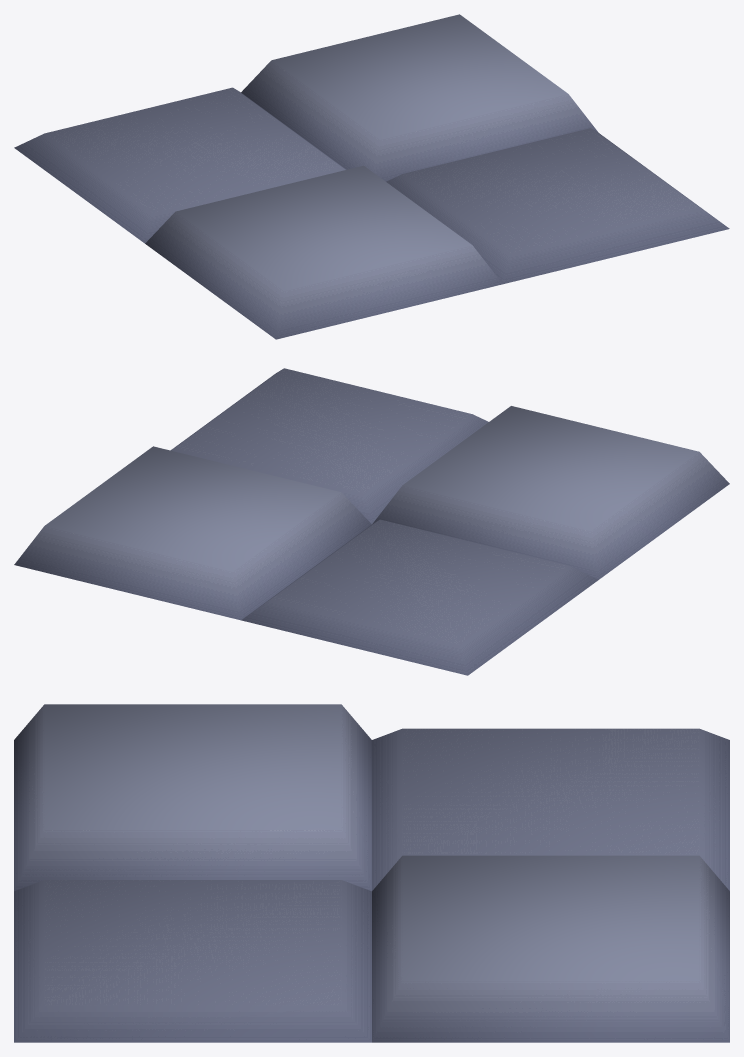
The model's file is floor_stone.glb.
The picture shows the model from 3 angles, top to bottom: view 1: azimuth 30°, elevation 25°; view 2: azimuth 150°, elevation 25°; view 3: azimuth 270°, elevation 25°; orthographic projection. The views are drawn at different scales.
Parts seen in each view (by area): view 1: floor-stone; view 2: floor-stone; view 3: floor-stone.
Boxes of the visible parts, x1=… form: floor-stone: x1=14, y1=14, x2=729, y2=339; floor-stone: x1=14, y1=368, x2=729, y2=675; floor-stone: x1=14, y1=704, x2=729, y2=1042.
Bounding box in the file's own units: 1 × 0.075 × 1.
1 material, 1 textured.
